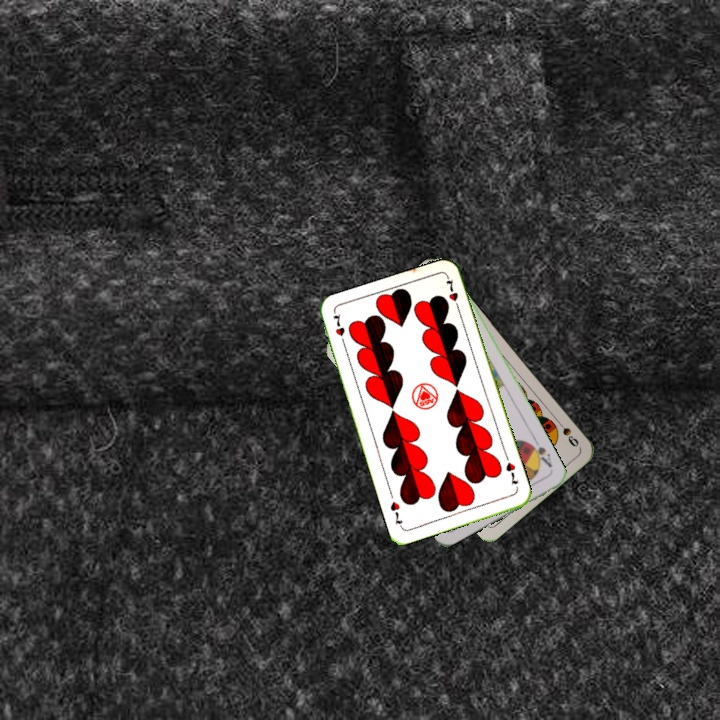H7: (329, 310, 348, 349), (502, 452, 521, 488)
S9: (552, 415, 582, 450)
SA: (525, 436, 555, 470)
